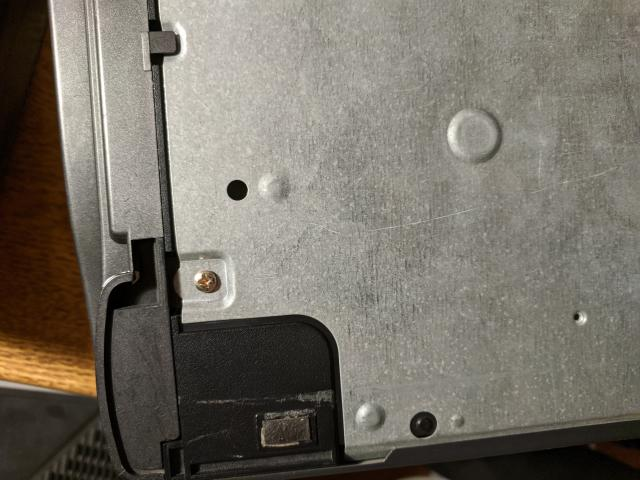CRS: (195, 270, 218, 293)
